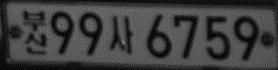5: (205, 15, 230, 60)
6: (146, 13, 172, 59)
7: (172, 13, 199, 59)
9: (233, 14, 259, 61), (78, 11, 103, 55), (50, 10, 74, 54)
부산_V: (22, 9, 48, 54)
사: (109, 15, 133, 54)
